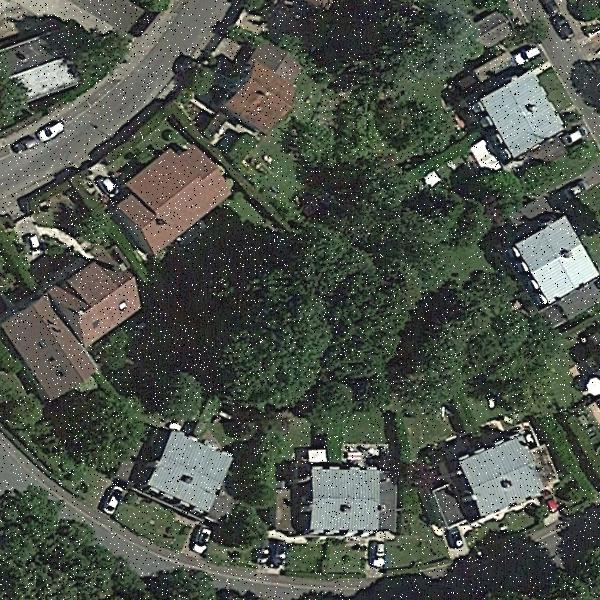Buildings: (11, 262, 139, 384), (430, 442, 548, 520), (134, 148, 226, 240), (520, 224, 598, 324), (293, 469, 407, 537), (474, 87, 556, 155), (231, 56, 309, 124), (149, 442, 230, 500)
